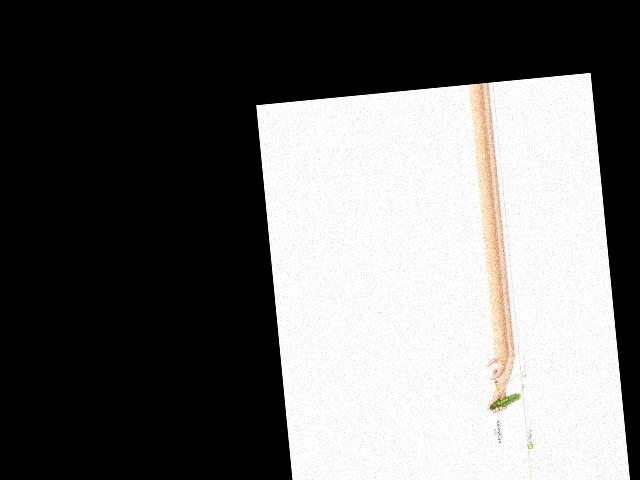cucumber: (488, 392, 522, 410)
